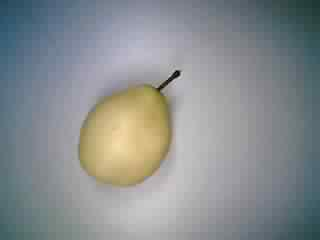pear: (65, 66, 192, 192)
